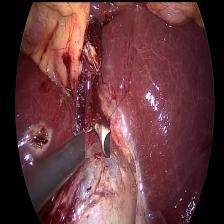Hook: (84, 118, 109, 157)
